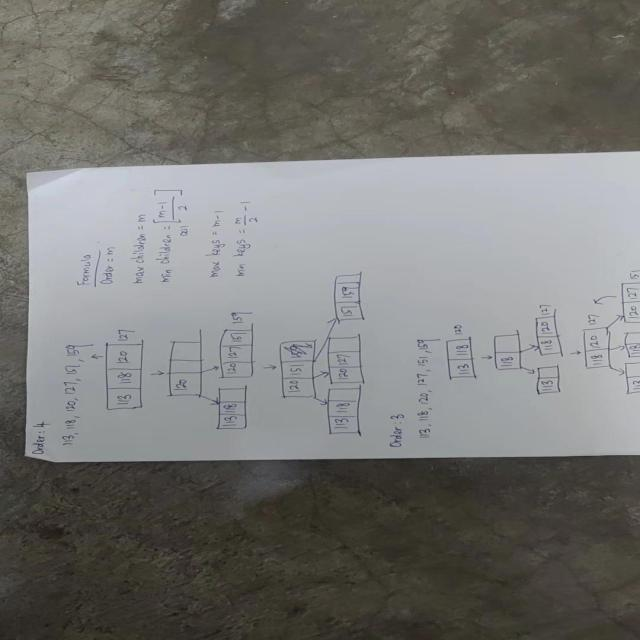paper: (34, 154, 640, 454)
